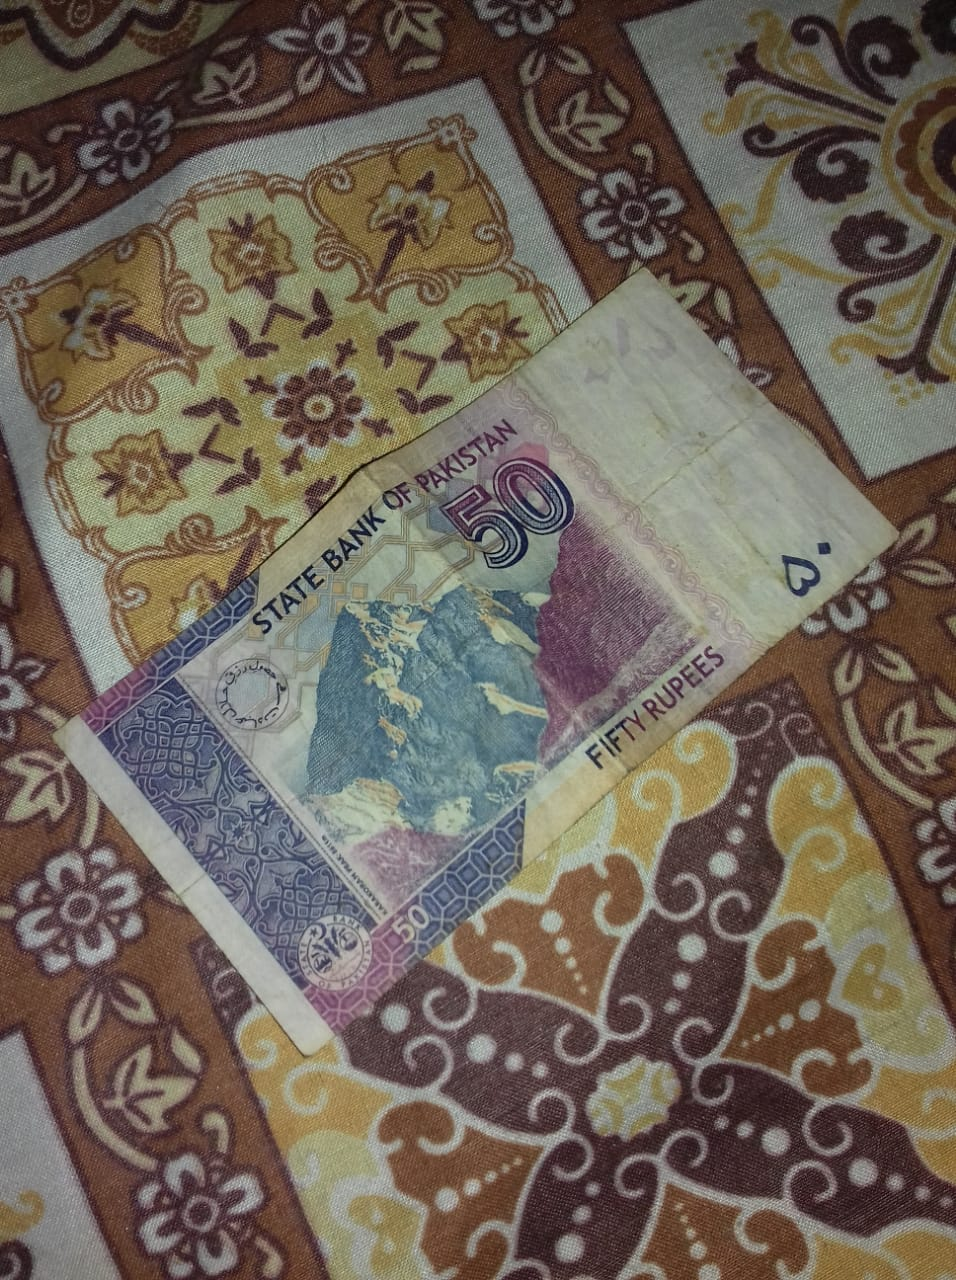50 rupee: (64, 272, 914, 1098)
